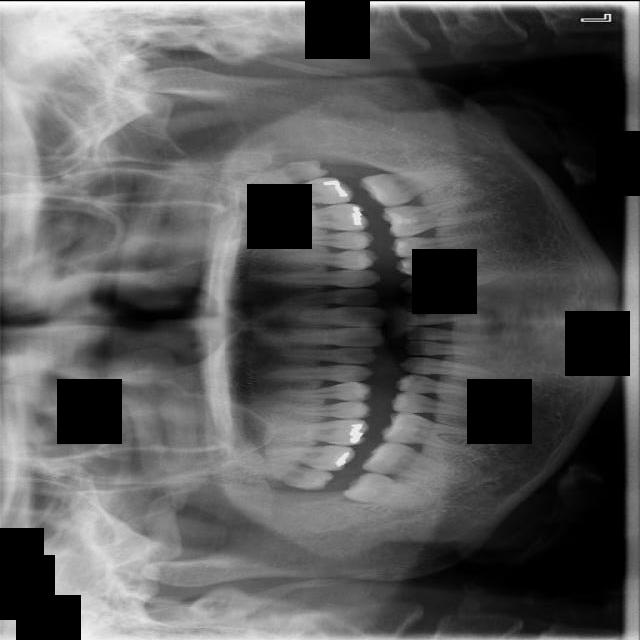3M ESPE Implant: (235, 455, 334, 492)
52: (324, 413, 370, 449), (308, 442, 356, 475), (306, 175, 355, 204), (321, 202, 368, 231)
73: (562, 55, 580, 69)
BioHorizons Implant: (254, 175, 354, 204)
BioLife Implant: (249, 159, 327, 181)
Blue Sky Bio Implant: (358, 164, 467, 209)
Caries: (258, 444, 356, 472)
Implant: (361, 434, 456, 485)
Keystone Dental Implant: (342, 466, 435, 515)
